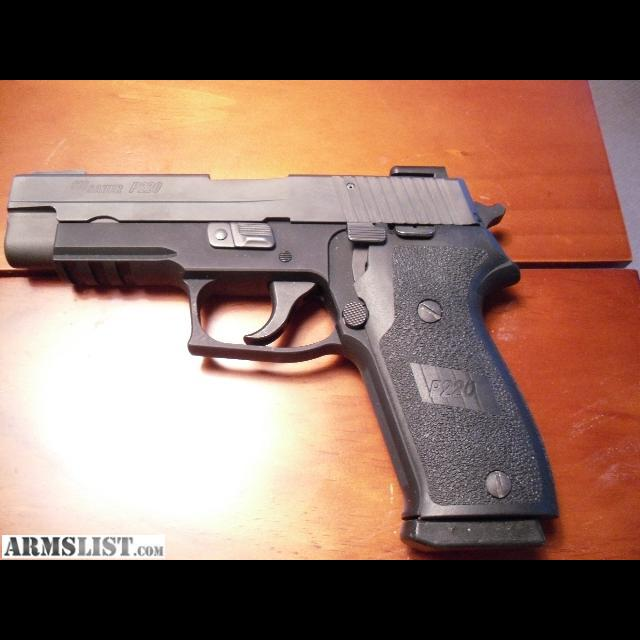handgun: (0, 162, 562, 560)
